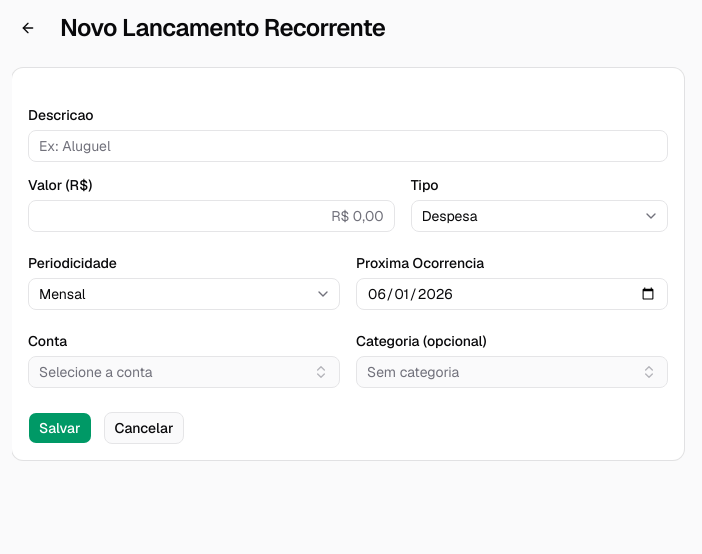
NovoLancamentoRecorrentePage › exibe erro de validacao quando descricao esta vazia
What coordinates should you click on to do the following:
click the button "Salvar"
I would click on:
 (60, 428)
Its box is [28,412,92,444].
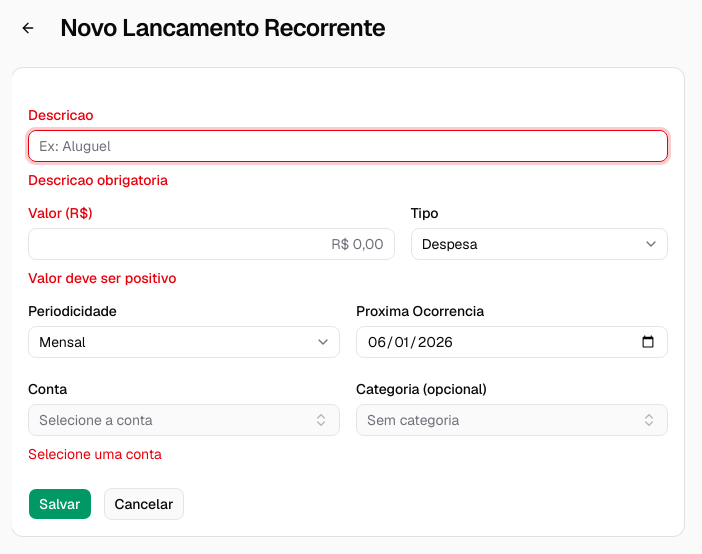
Expected: the text "Descricao obrigatoria" is shown, [28,171,168,189]
